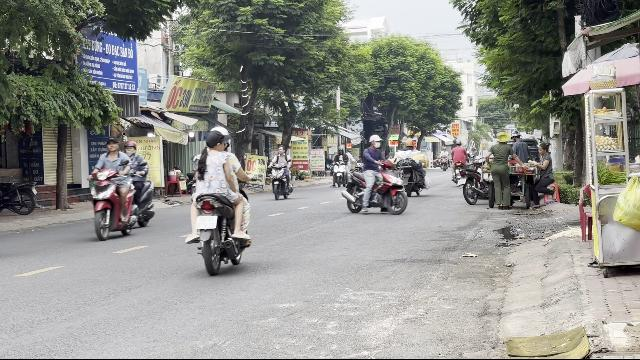helmet: (124, 138, 136, 154)
licenseplate: (196, 216, 216, 228)
motorcyclist: (184, 124, 252, 274), (86, 134, 156, 240), (342, 134, 408, 216)
nohelmet: (204, 130, 226, 154), (104, 137, 120, 155), (368, 134, 382, 150)
